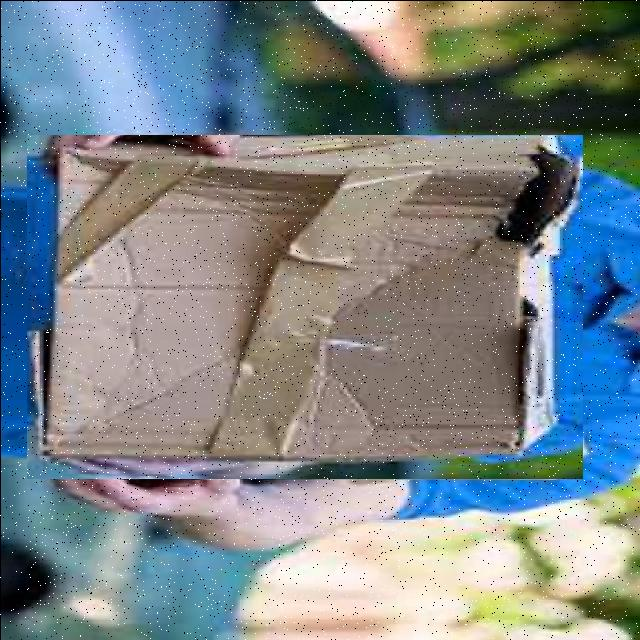defect: (26, 134, 582, 478)
